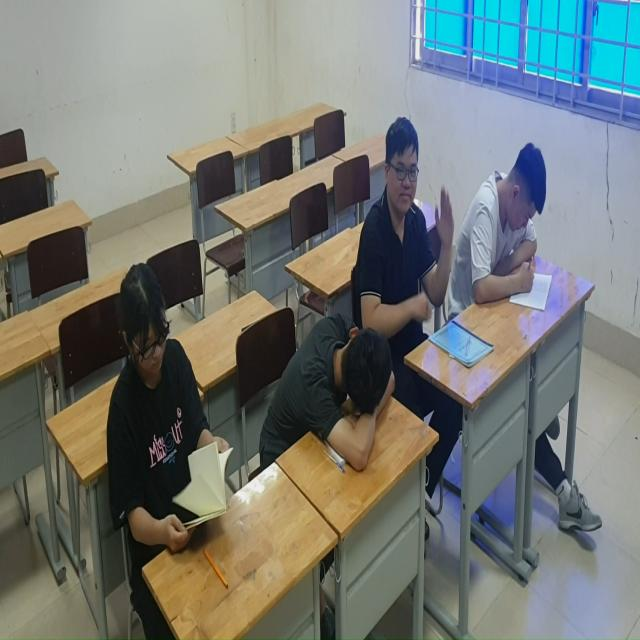raise_hand: (353, 69, 462, 371)
read: (102, 231, 271, 571), (444, 104, 575, 348)
sleep: (278, 303, 400, 488)
